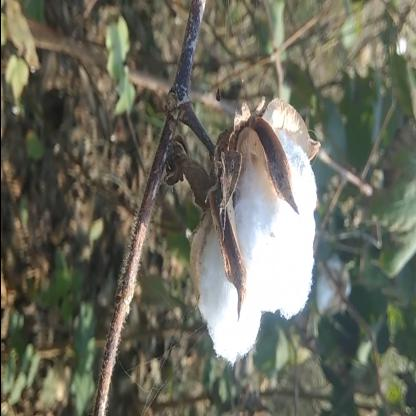cotton_ready: (140, 123, 336, 359)
